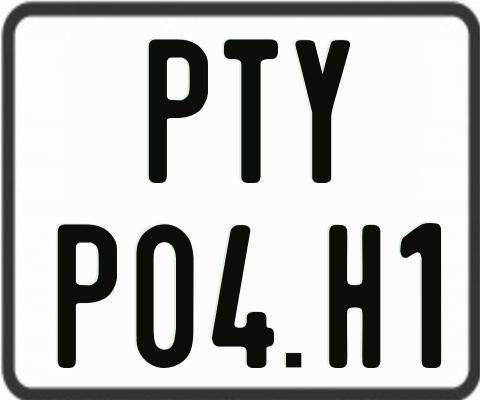0: (134, 222, 192, 366)
1: (397, 222, 439, 371)
4: (212, 225, 278, 368)
H: (326, 222, 381, 368)
P: (55, 223, 120, 373), (147, 39, 211, 188)
T: (223, 38, 282, 185)
Y: (293, 37, 350, 184)
